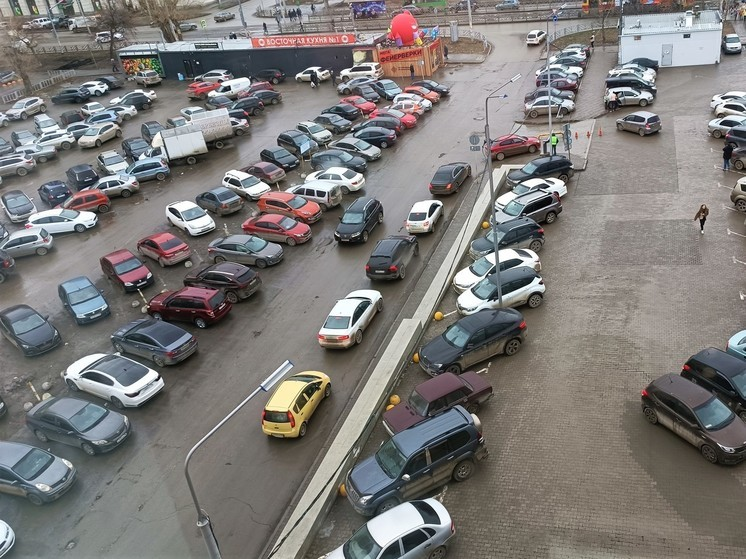Car: (345, 406, 487, 517), (641, 373, 746, 465), (319, 498, 455, 559), (419, 309, 526, 376), (382, 373, 493, 435), (24, 395, 132, 455), (64, 352, 165, 409), (0, 440, 78, 506), (261, 370, 332, 438), (681, 348, 746, 420), (110, 318, 199, 368), (456, 267, 546, 316), (317, 289, 384, 350), (453, 249, 541, 294), (147, 286, 232, 328), (183, 260, 262, 304), (0, 304, 63, 356), (469, 217, 545, 260), (139, 124, 209, 165), (490, 190, 562, 228), (365, 234, 420, 282), (207, 234, 284, 268), (59, 276, 111, 324), (333, 196, 384, 244), (240, 213, 313, 246), (495, 177, 567, 210), (100, 249, 154, 293), (507, 155, 574, 188), (257, 191, 323, 224), (185, 107, 236, 149), (136, 232, 192, 268), (284, 179, 342, 212), (25, 209, 99, 234), (165, 201, 216, 237), (304, 166, 366, 194), (0, 228, 54, 259), (221, 170, 271, 201), (484, 133, 541, 160), (429, 162, 472, 197), (196, 187, 244, 216), (82, 174, 140, 198), (53, 189, 110, 213), (117, 157, 171, 182), (406, 200, 444, 235), (327, 137, 382, 161), (310, 149, 367, 172), (0, 189, 37, 224), (277, 129, 319, 159), (78, 121, 122, 148), (616, 111, 663, 136), (240, 161, 286, 186), (604, 77, 658, 98), (524, 95, 575, 117), (23, 129, 76, 150), (344, 127, 396, 148), (259, 146, 300, 172), (4, 97, 48, 121), (368, 108, 417, 129), (604, 87, 653, 108), (66, 163, 99, 192), (350, 117, 403, 135), (38, 180, 72, 208), (707, 114, 746, 138), (208, 77, 250, 99), (296, 120, 332, 145), (0, 152, 37, 176), (339, 62, 385, 81), (312, 113, 353, 134), (96, 150, 129, 176), (9, 144, 56, 162), (109, 88, 158, 105), (524, 87, 575, 103), (383, 100, 425, 119), (409, 79, 451, 98), (337, 76, 377, 95), (338, 95, 377, 114), (227, 96, 264, 116), (121, 136, 149, 162), (392, 93, 432, 111), (51, 86, 91, 104), (185, 81, 220, 101), (536, 71, 579, 87), (710, 90, 746, 109), (402, 85, 440, 103), (725, 328, 746, 360), (237, 81, 274, 99), (536, 64, 583, 78), (249, 68, 287, 85), (0, 519, 16, 559), (606, 69, 655, 82), (614, 57, 659, 71), (729, 175, 746, 212), (61, 121, 98, 138), (141, 120, 166, 145), (401, 0, 449, 13), (34, 113, 61, 136), (374, 79, 403, 100), (714, 99, 746, 118), (295, 66, 333, 82), (614, 64, 657, 78), (194, 68, 234, 83), (549, 47, 586, 63), (82, 110, 123, 124), (540, 78, 578, 93), (115, 94, 153, 109), (321, 104, 359, 119), (102, 104, 137, 120), (352, 84, 381, 103), (133, 69, 161, 88), (79, 80, 109, 97), (248, 89, 282, 104), (724, 126, 746, 149), (0, 250, 16, 281), (67, 16, 97, 32), (11, 128, 36, 147), (550, 56, 586, 69), (93, 75, 124, 90), (204, 95, 233, 111), (59, 109, 84, 127), (448, 0, 479, 13), (722, 34, 742, 54), (80, 101, 106, 116), (229, 117, 249, 135), (526, 29, 547, 46), (391, 5, 423, 16), (95, 31, 124, 43), (731, 146, 746, 169), (179, 105, 205, 118), (228, 109, 250, 123), (565, 44, 590, 56), (166, 114, 186, 129), (495, 0, 520, 11), (0, 137, 14, 156), (33, 17, 55, 29), (48, 15, 68, 28), (0, 224, 10, 244), (213, 12, 235, 21), (178, 21, 198, 30), (0, 395, 7, 419), (0, 112, 9, 127), (59, 17, 70, 27), (22, 20, 33, 29), (0, 175, 3, 186)
